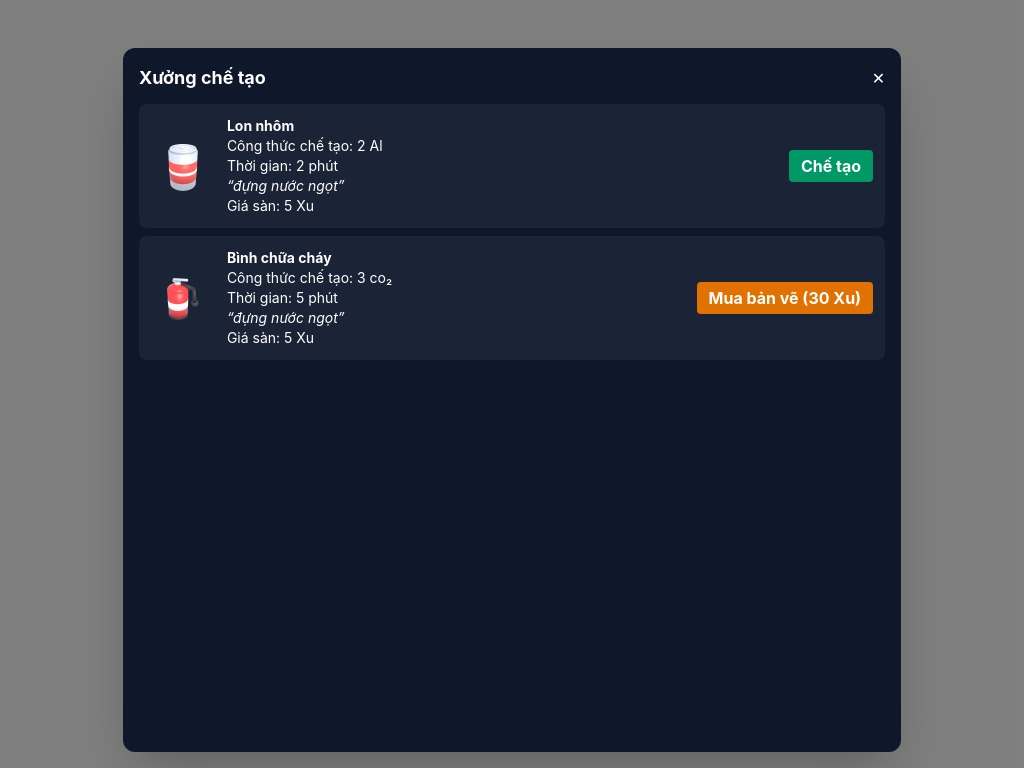
start refusal BLUEPRINT_LOCKED shows copy
The image size is (1024, 768).
Click the button "Chế tạo" at (831, 166), box [789,150,873,182]
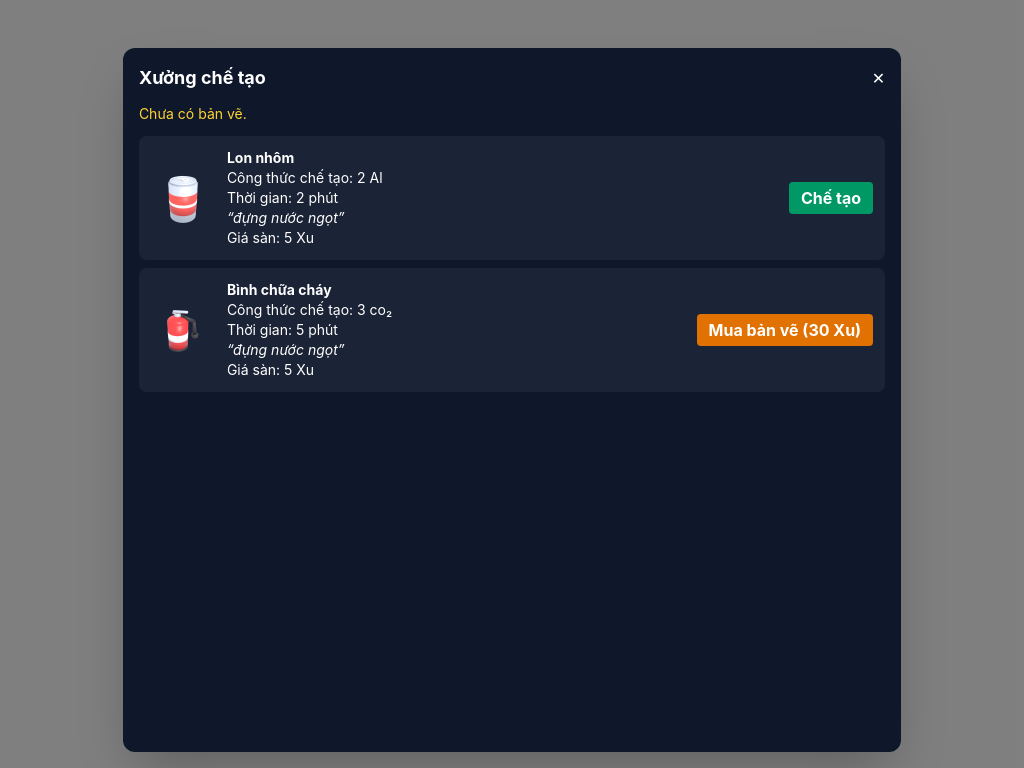
Result: the message reads "Chưa có bản vẽ." at [139,105,247,122]
